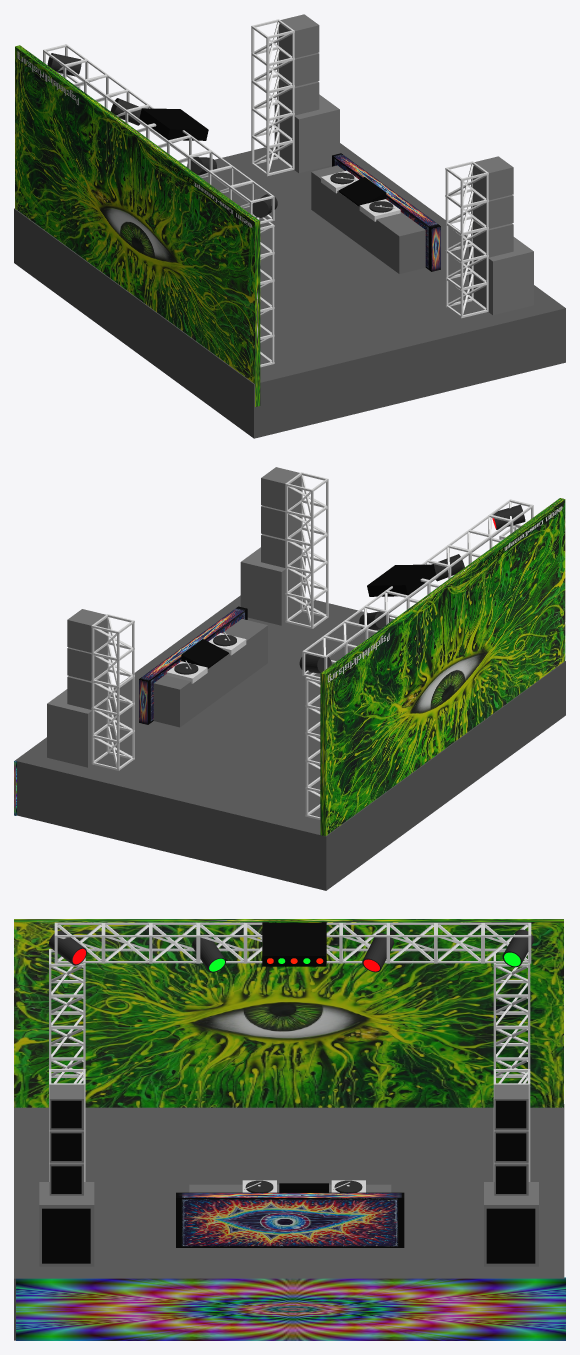
File: musicScene.fbx
3 renders of one model, top to bottom at view 1: azimuth 30°, elevation 25°; view 2: azimuth 150°, elevation 25°; view 3: azimuth 270°, elevation 25°, orthographic. The views are drawn at different scales.
Parts seen in each view (by area): view 1: Cube, Cube.001, Cube.003, RigPillar, RigPillar.001, RigPillar.004, Speaker.003, Speaker.004, DJBoothFront, Cube.009, Speaker.002, Speaker.005 (+6 smaller); view 2: Cube, Cube.001, Cube.003, RigPillar.001, RigPillar, RigPillar.004, Speaker.004, Speaker.003, DJBoothFront, Cube.009, Speaker.005, Speaker.002 (+6 smaller); view 3: Cube.001, Cube, Cube.002, DJBoothFront, RigPillar.004, Speaker.003, Speaker.004, RigPillar.003, RigPillar.002, Cube.009, Speaker.005, Speaker.002 (+11 smaller).
Boxes of the visible parts, x1,y1,x2,y2 form: Cube: (14, 143, 565, 438); Cube.001: (15, 45, 260, 406); Cube.003: (311, 165, 425, 273); RigPillar: (445, 161, 488, 318); RigPillar.001: (251, 19, 294, 176); RigPillar.004: (43, 44, 274, 223); Speaker.003: (469, 237, 533, 315); Speaker.004: (274, 94, 339, 173); DJBoothFront: (332, 153, 440, 271); Cube.009: (139, 108, 208, 140); Speaker.002: (472, 156, 513, 200); Speaker.005: (278, 14, 319, 58); Cube: (15, 595, 565, 890); Cube.001: (320, 498, 565, 836); Cube.003: (153, 619, 267, 727); RigPillar.001: (91, 614, 134, 770); RigPillar: (285, 472, 328, 628); RigPillar.004: (302, 499, 533, 679); Speaker.004: (47, 689, 111, 767); Speaker.003: (240, 547, 305, 625); DJBoothFront: (139, 606, 247, 724); Cube.009: (367, 564, 435, 596); Speaker.005: (67, 609, 107, 652); Speaker.002: (261, 467, 301, 510); Cube.001: (14, 919, 563, 1107); Cube: (14, 1104, 564, 1340); Cube.002: (16, 1277, 565, 1340); DJBoothFront: (176, 1192, 404, 1247); RigPillar.004: (54, 922, 531, 963); Speaker.003: (39, 1182, 94, 1266); Speaker.004: (484, 1182, 538, 1266); RigPillar.003: (49, 949, 85, 1083); RigPillar.002: (493, 951, 530, 1083); Cube.009: (262, 922, 326, 966); Speaker.005: (494, 1085, 528, 1129); Speaker.002: (49, 1085, 83, 1129).
Bounding box in the file's own units: 6 × 4.13 × 8.03.
